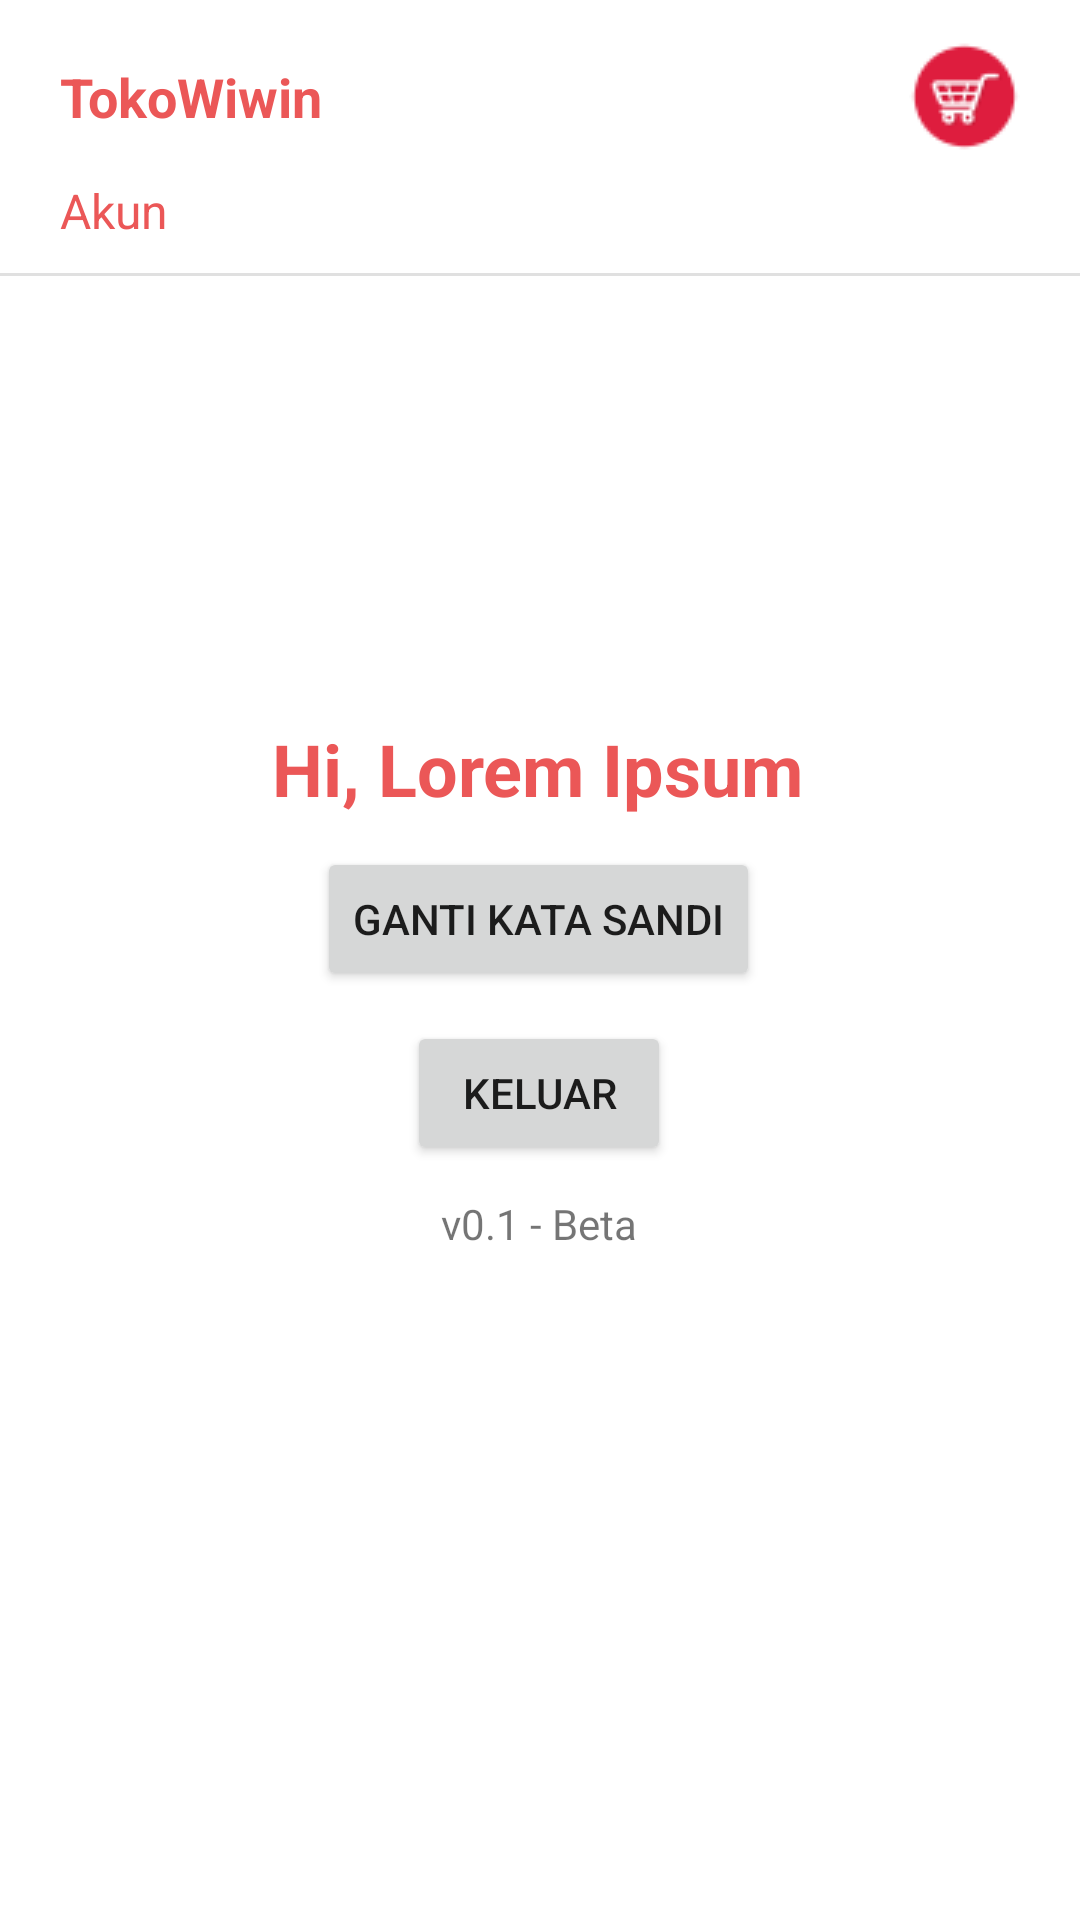

Icons on this 1080×1920 Android screen, each with the point to tap as (x=x, y=y):
cart: (x=964, y=96)
